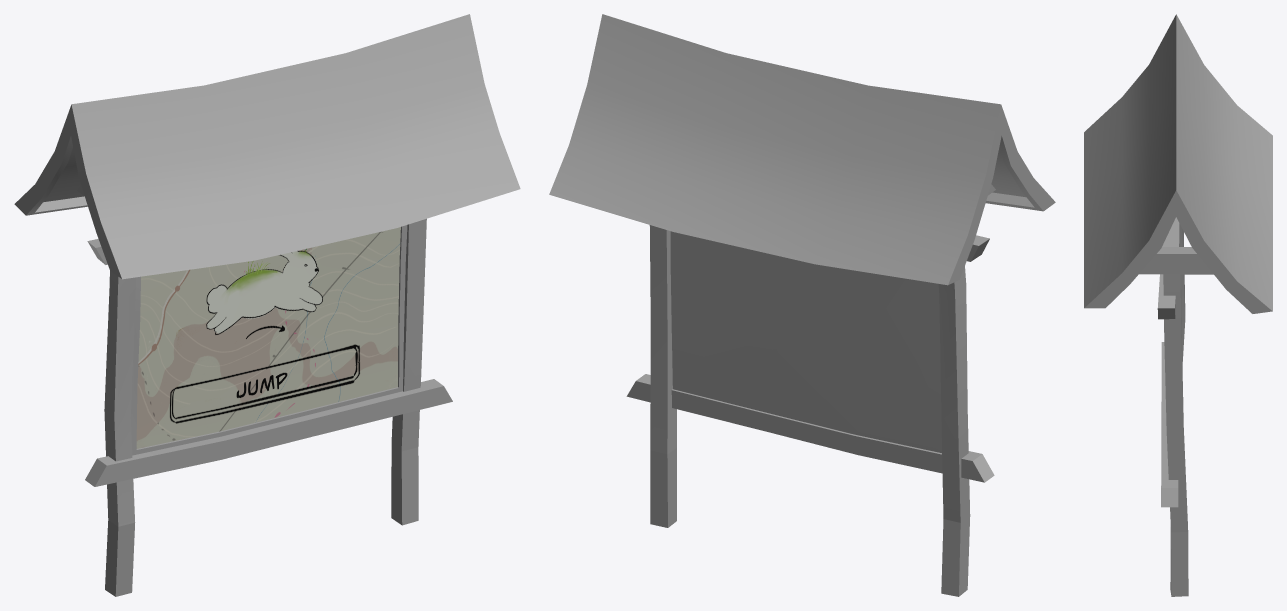
The model's file is Post_big_jump.fbx.
The picture shows the model from 3 angles, left to right: view 1: azimuth 30°, elevation 25°; view 2: azimuth 150°, elevation 25°; view 3: azimuth 270°, elevation 25°; orthographic projection. The views are drawn at different scales.
Visible parts, largest first — view 1: Post_Big; view 2: Post_Big; view 3: Post_Big.
Boxes of the visible parts, bbox=[...] form: Post_Big: bbox=[14, 14, 520, 596]; Post_Big: bbox=[549, 14, 1055, 596]; Post_Big: bbox=[1084, 14, 1272, 596].
Size of the model in its own units: 5.46 by 6.5 by 2.55.
2 materials, 1 textured.
